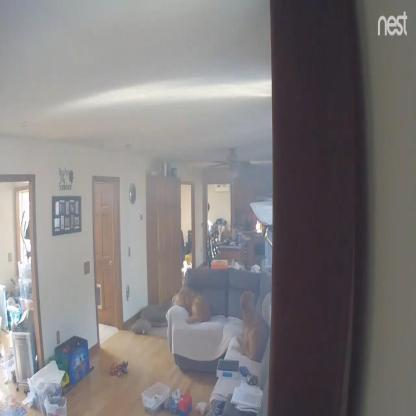fire: (256, 220, 262, 233)
